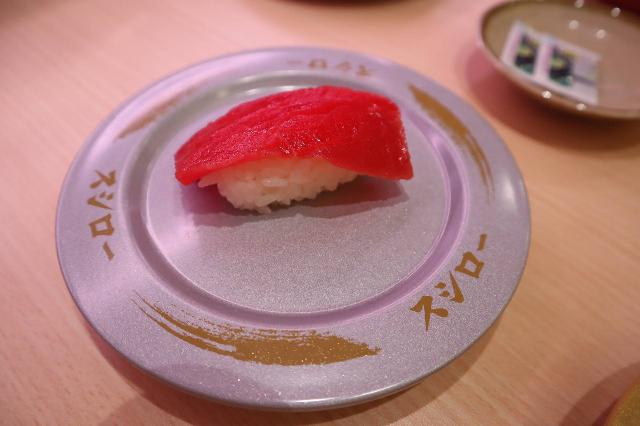janwhite: (51, 82, 515, 378)
